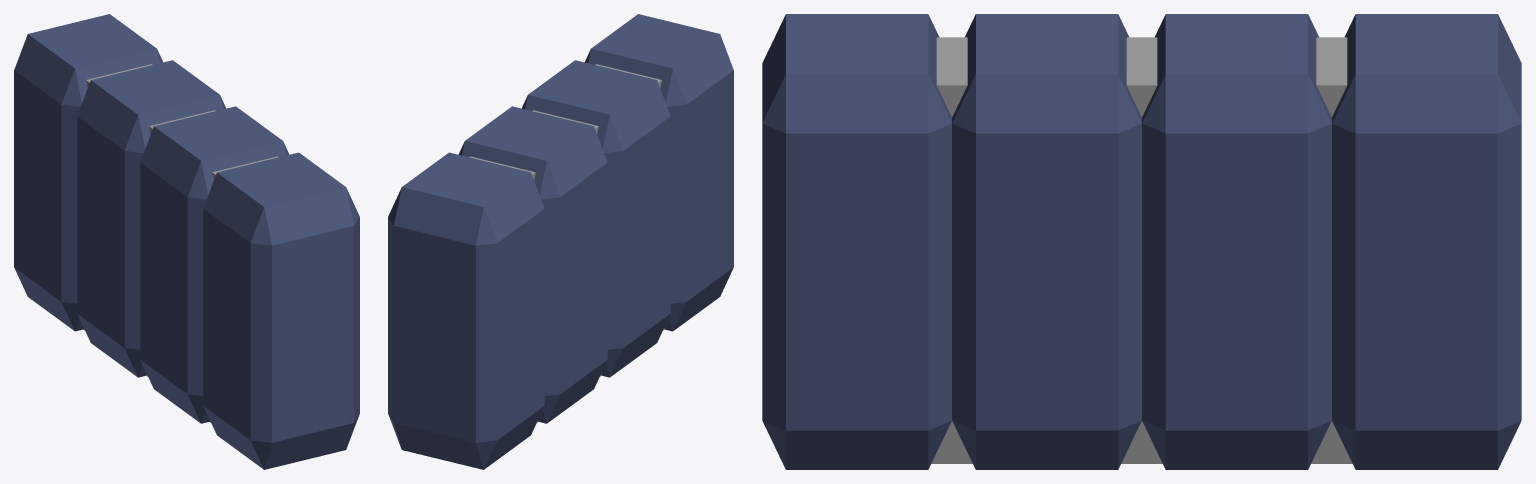
The model's file is Wall.fbx.
3 views of the same model, side by side, from view 1: azimuth 30°, elevation 25°; view 2: azimuth 150°, elevation 25°; view 3: azimuth 270°, elevation 25° (orthographic). The views are drawn at different scales.
Parts seen in each view (by area): view 1: block_bevel (×4), block; view 2: block_bevel (×4), block; view 3: block_bevel (×4), block.
Part boxes in pixels (x1,y1,x2,y2): block_bevel (×4): (14,14,359,469); block: (83,64,278,422); block_bevel (×4): (388,14,733,469); block: (469,64,664,422); block_bevel (×4): (762,14,1521,469); block: (931,37,1352,463).
Bounding box in the file's own units: 10 × 23 × 40.
